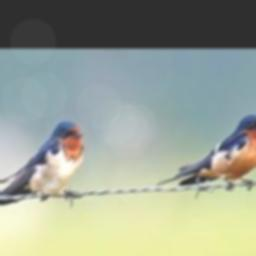Swallow: (156, 113, 256, 189), (0, 121, 85, 204)
